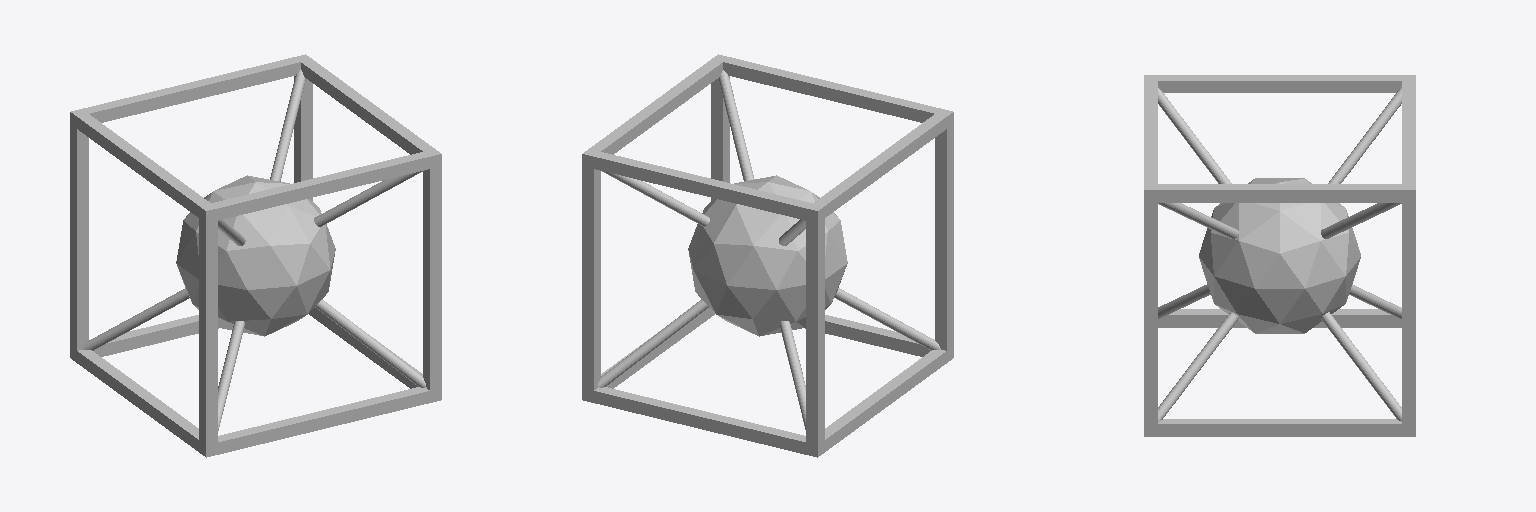
The model's file is xboxc.obj.
The picture shows the model from 3 angles: view 1: azimuth 30°, elevation 25°; view 2: azimuth 150°, elevation 25°; view 3: azimuth 270°, elevation 25°; orthographic projection.
Parts seen in each view (by area): view 1: Cube.011_Cube.026; view 2: Cube.011_Cube.026; view 3: Cube.011_Cube.026.
Part boxes in pixels (bbox=[...]): Cube.011_Cube.026: bbox=[70, 54, 441, 457]; Cube.011_Cube.026: bbox=[582, 54, 953, 457]; Cube.011_Cube.026: bbox=[1144, 75, 1415, 436].
Size of the model in its own units: 1 by 1 by 1.